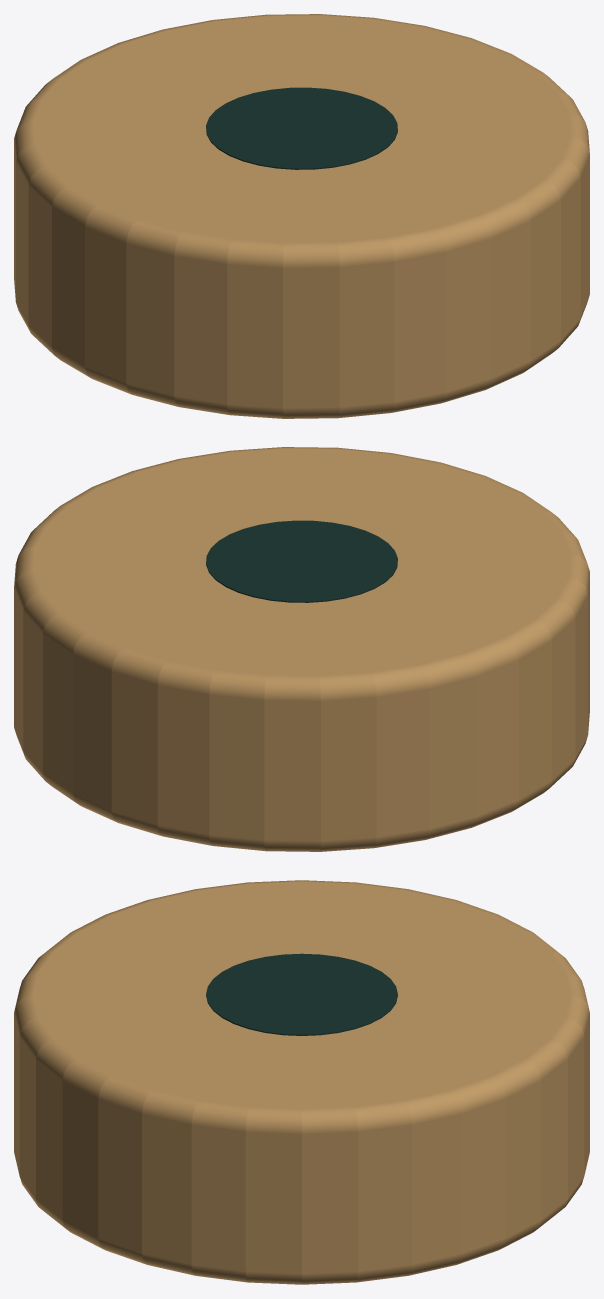
File: launcherPin.glb
3 views of the same model, one above another, from view 1: azimuth 30°, elevation 25°; view 2: azimuth 150°, elevation 25°; view 3: azimuth 270°, elevation 25° (orthographic).
Parts seen in each view (by area): view 1: launcherPin; view 2: launcherPin; view 3: launcherPin.
Boxes of the visible parts, x1,y1,x2,y2 form: launcherPin: (14,14,589,418); launcherPin: (14,447,589,851); launcherPin: (14,880,589,1284).
Bounding box in the file's own units: 0.009 × 0.00302 × 0.009.
